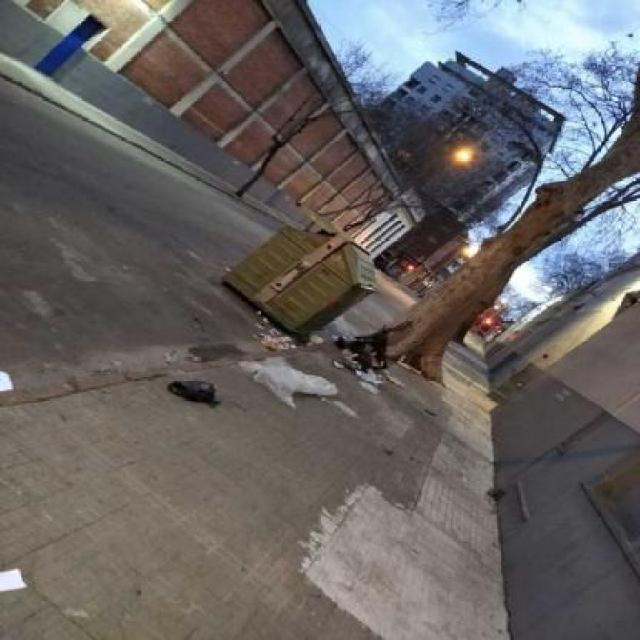garbage: (168, 315, 477, 442)
